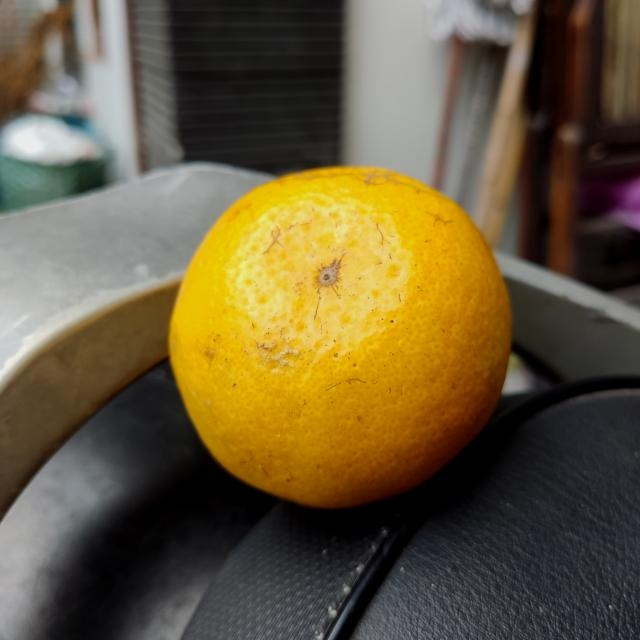agrume: (165, 166, 518, 514)
